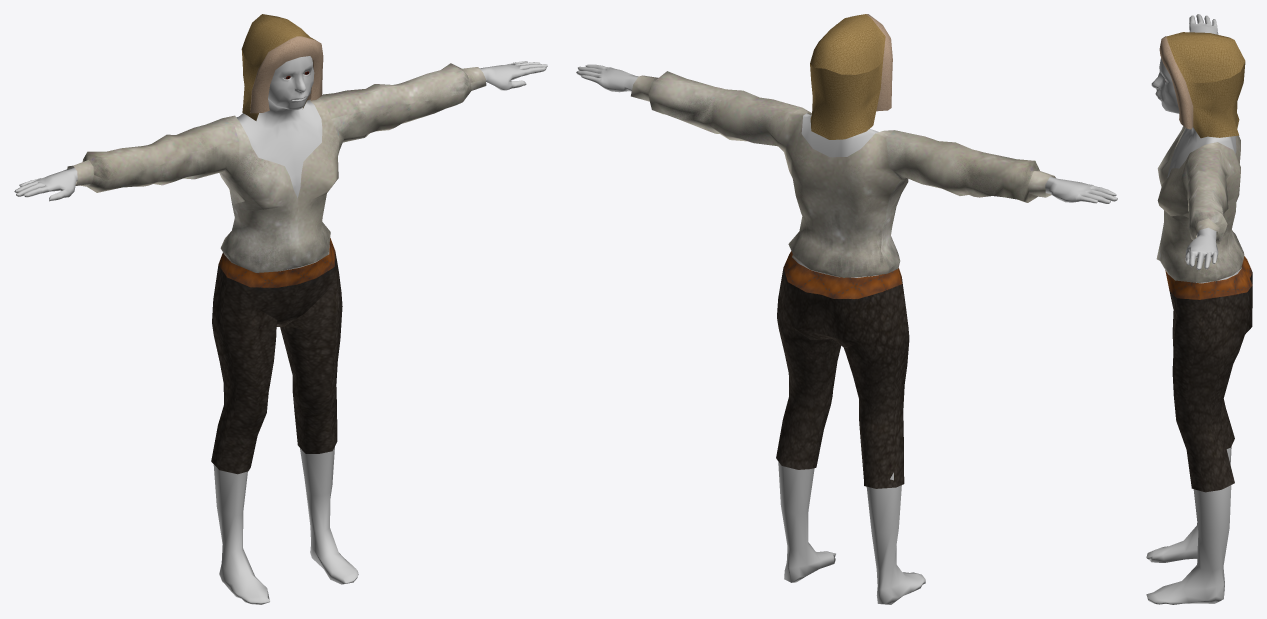
Rendered from Roupa.fbx.
3 renders of one model, left to right at view 1: azimuth 30°, elevation 25°; view 2: azimuth 150°, elevation 25°; view 3: azimuth 270°, elevation 25°, orthographic. The views are drawn at different scales.
Visible parts, largest first — view 1: Calça, male1591Mesh; view 2: Calça, male1591Mesh; view 3: Calça, male1591Mesh.
Boxes of the visible parts, x1,y1,x2,y2 form: Calça: [67, 14, 486, 474]; male1591Mesh: [14, 56, 547, 604]; Calça: [631, 14, 1055, 488]; male1591Mesh: [576, 64, 1117, 604]; Calça: [1156, 32, 1252, 492]; male1591Mesh: [1146, 14, 1241, 604].
Size of the model in its own units: 613 by 611 by 108.
